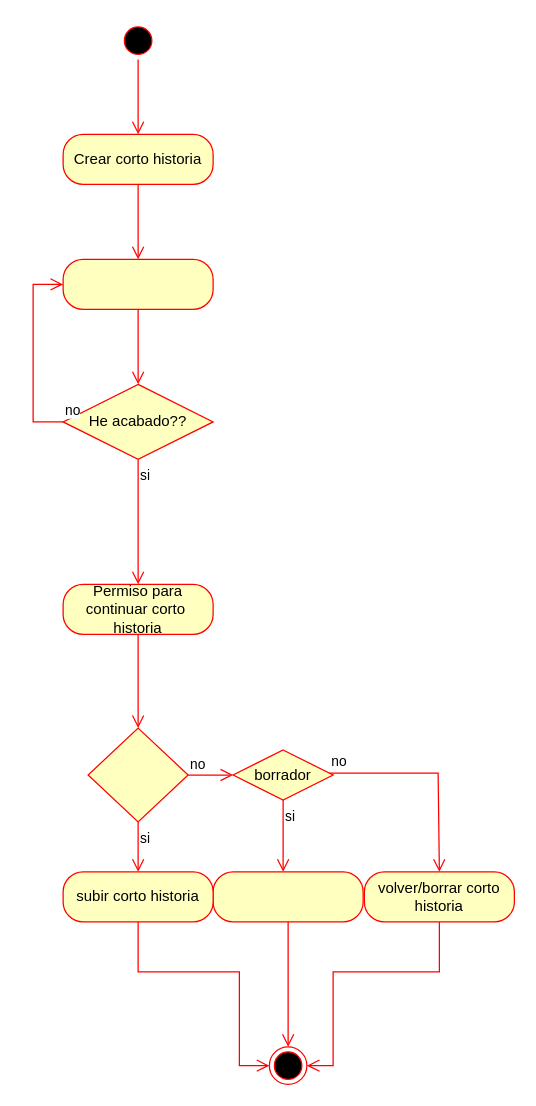
The diagram is 536 pixels wide and 1106 high, and some of its shapes have lost their labels. Here are the shapes that lost their labels. From the top down, the centre of each, then its label:
(137,283): Escribir corto historia
(137,774): subir corto historia?
(287,896): guardar borrador
